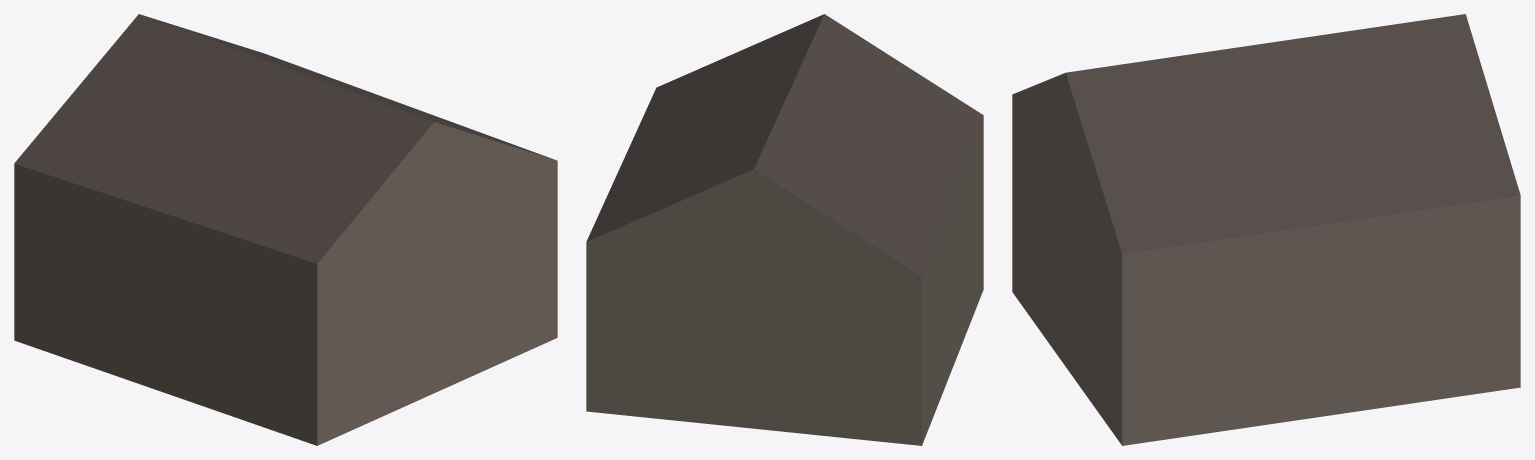
3 renders of one model, left to right at view 1: azimuth 30°, elevation 25°; view 2: azimuth 150°, elevation 25°; view 3: azimuth 270°, elevation 25°, orthographic. The views are drawn at different scales.
Visible parts, largest first — view 1: HP-w1196661471; view 2: HP-w1196661471; view 3: HP-w1196661471.
Part boxes in pixels (bbox=[...]): HP-w1196661471: bbox=[14, 14, 557, 445]; HP-w1196661471: bbox=[586, 14, 983, 445]; HP-w1196661471: bbox=[1012, 14, 1520, 445].
Bounding box in the file's own units: 21.85 × 13.8 × 21.62.
